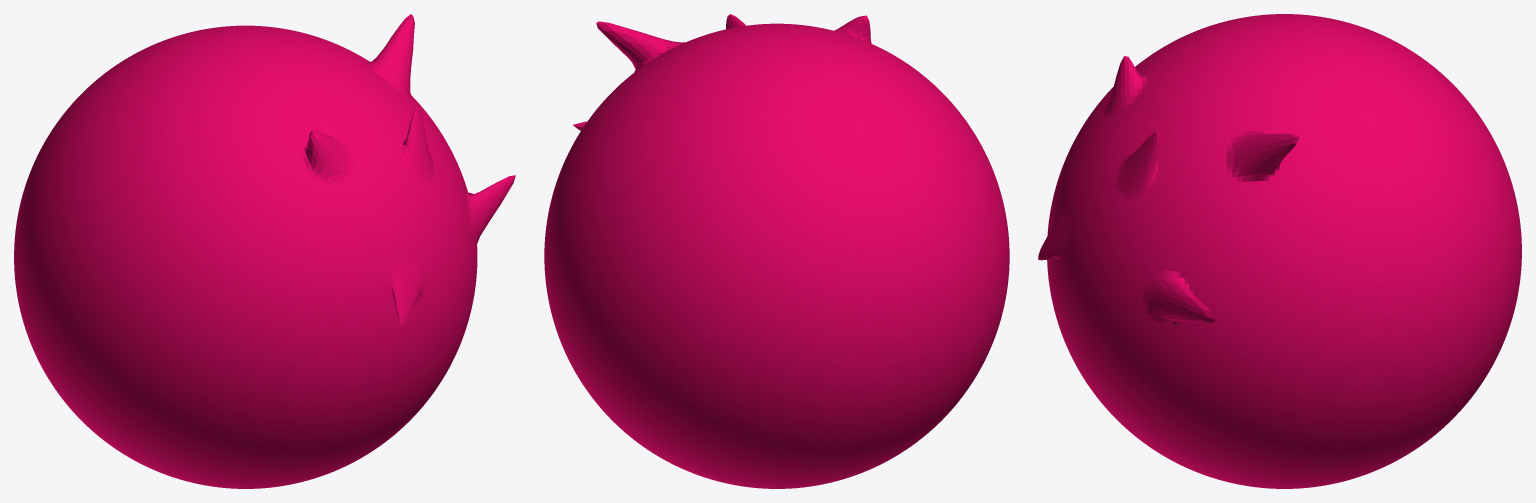
Rendered from bomb.gltf.
3 renders of one model, left to right at view 1: azimuth 30°, elevation 25°; view 2: azimuth 150°, elevation 25°; view 3: azimuth 270°, elevation 25°, orthographic. The views are drawn at different scales.
Parts seen in each view (by area): view 1: Sphere; view 2: Sphere; view 3: Sphere.
Boxes of the visible parts, x1=… form: Sphere: x1=14, y1=14, x2=515, y2=488; Sphere: x1=544, y1=14, x2=1009, y2=488; Sphere: x1=1038, y1=14, x2=1521, y2=488.
Bounding box in the file's own units: 2.8 × 2.57 × 2.62.
